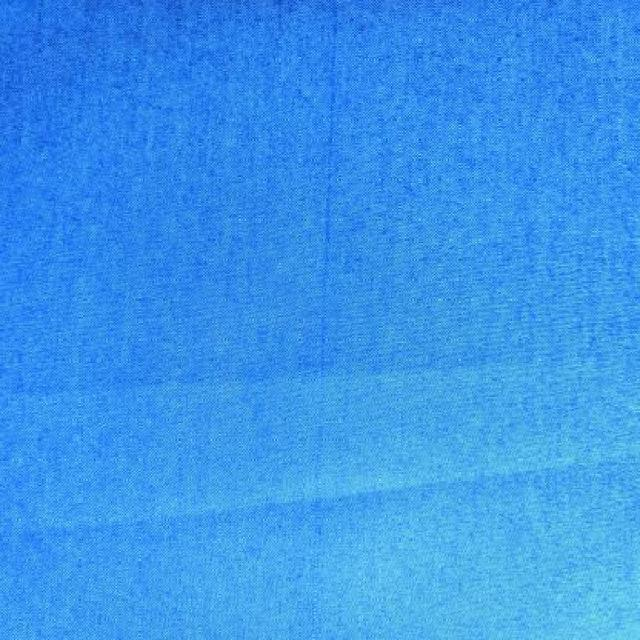pulled_or_thick_thread: (300, 5, 354, 639)
